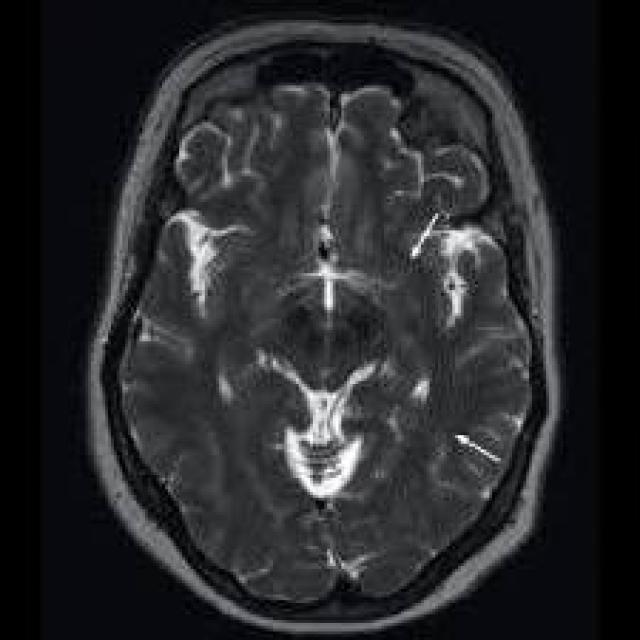notumor: (88, 23, 558, 629)
